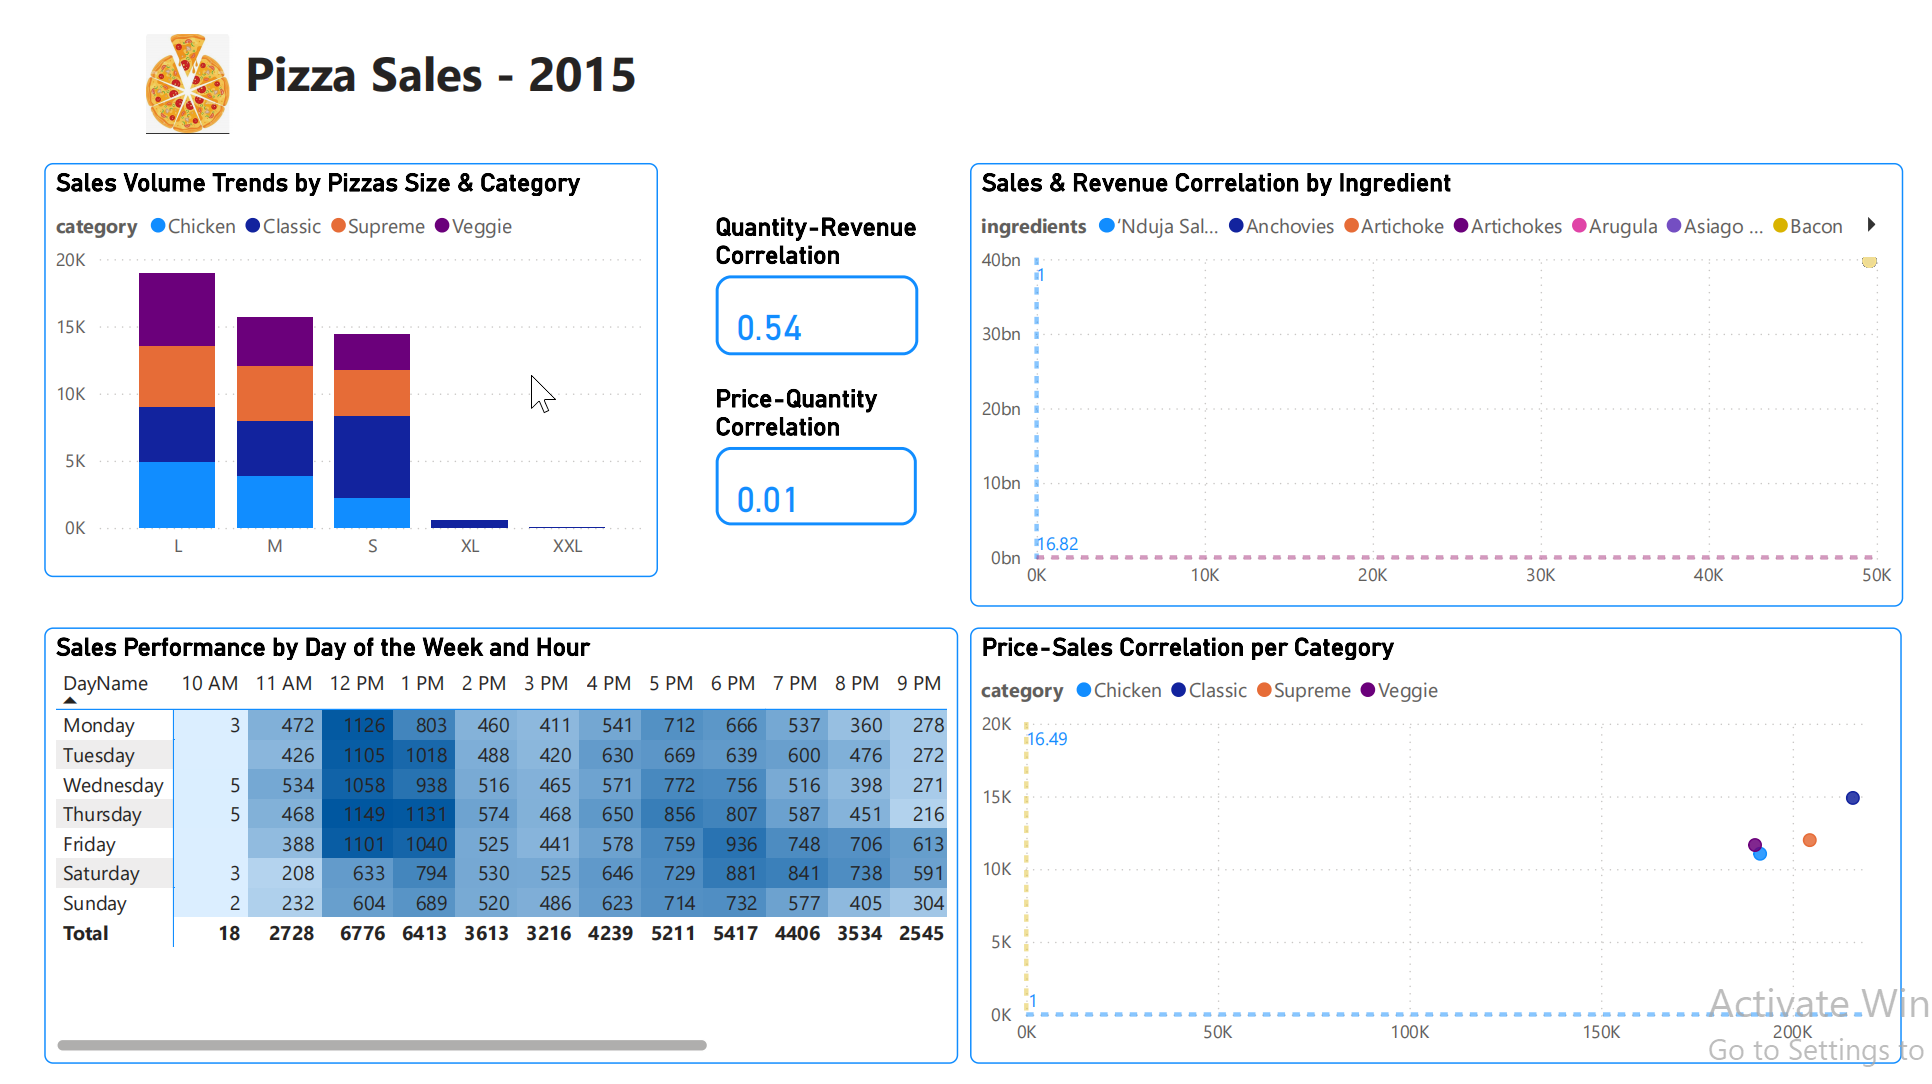

Layout of this report page (visuals, bound fields, positions):
{"tool":"powerbi","page":{"name":"OrderCorrelation_Dashboard","canvas":[1280,720],"ordinal":2},"visuals":[{"type":"columnChart","title":"Sales Volume Trends by Pizzas Size & Category","fields":{"Category":["Order_Details.size"],"Series":["Pizza_Types.category"],"Y":["Order_Details.TotalQuantity"]},"box":[12.2,97.3,414.9,279.7],"z":1000},{"type":"scatterChart","title":"Sales & Revenue Correlation by Ingredient","fields":{"Y":["Order_Details.TotalRevenue"],"X":["Order_Details.TotalQuantity"],"Series":["Dim_Ingredients.ingredients"]},"box":[637.7,97.4,631.2,300],"z":2000},{"type":"scatterChart","title":"Price-Sales Correlation per Category","fields":{"X":["Sum(Order_Details.price)"],"Y":["Sum(Order_Details.quantity)"],"Series":["Pizza_Types.category"]},"box":[637.9,410.6,630.3,295.5],"z":3000},{"type":"cardVisual","title":"Quantity-Revenue Correlation","fields":{"Data":["Order_Details.Correlation_Quantity_Revenue"]},"box":[460.8,129.8,146.8,102.6],"z":4000},{"type":"cardVisual","title":"Price-Quantity Correlation","fields":{"Data":["Order_Details.Correlation_Price_Quantity"]},"box":[461.5,245.9,145.9,101.4],"z":5000},{"type":"textbox","box":[0,7.8,561,70.1],"z":6000},{"type":"image","box":[75.3,5.2,70.1,76.6],"z":7000},{"type":"pivotTable","title":"Sales Performance by Day of the Week and Hour","fields":{"Values":["Order_Details.TotalQuantity"],"Columns":["Orders.HourText"],"Rows":["DimDateTime.DayName"]},"box":[12.1,410.6,618.2,295.5],"z":8000}]}

Visuals, with their boxes in screenshot pixels (x1, y1, x2, y2), scaled from the page's 1280x720 canvas onto the 1932x1084 screenshot:
"Sales Volume Trends by Pizzas Size & Category" columnChart: <region>18, 146, 645, 568</region>
"Sales & Revenue Correlation by Ingredient" scatterChart: <region>963, 147, 1915, 598</region>
"Price-Sales Correlation per Category" scatterChart: <region>963, 618, 1914, 1063</region>
"Quantity-Revenue Correlation" cardVisual: <region>696, 195, 917, 350</region>
"Price-Quantity Correlation" cardVisual: <region>697, 370, 917, 523</region>
textbox: <region>0, 12, 847, 117</region>
image: <region>114, 8, 219, 123</region>
"Sales Performance by Day of the Week and Hour" pivotTable: <region>18, 618, 951, 1063</region>
